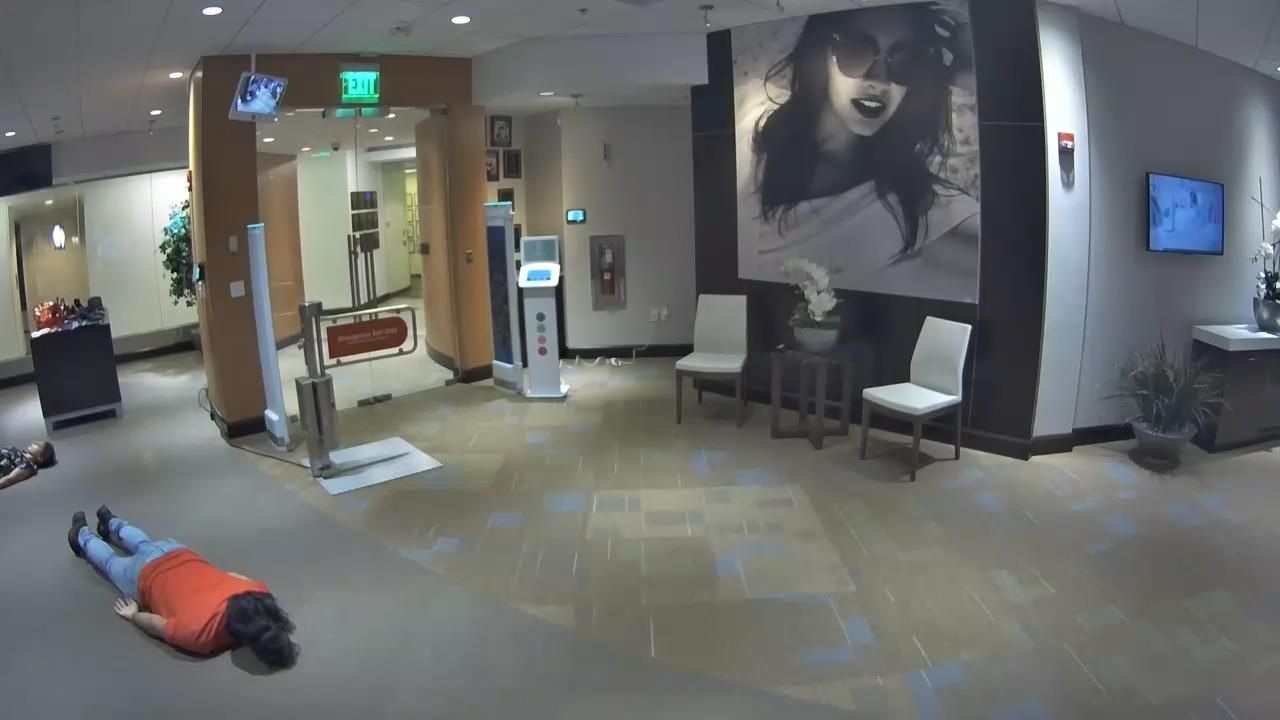fall: (63, 499, 297, 675)
